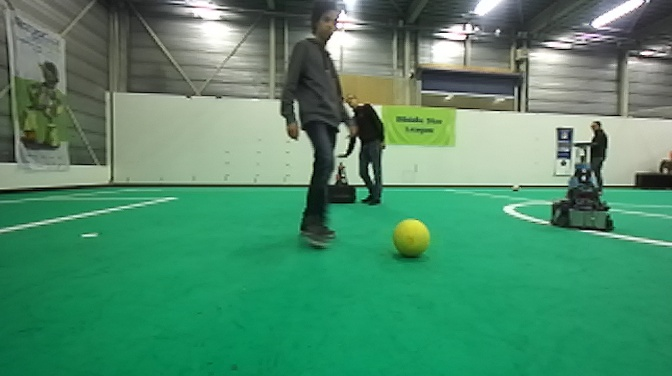ball: (389, 216, 433, 260), (509, 182, 521, 193)
human: (276, 1, 347, 254), (339, 95, 390, 207), (582, 118, 610, 191)
robot: (549, 139, 616, 232), (325, 153, 358, 207)
